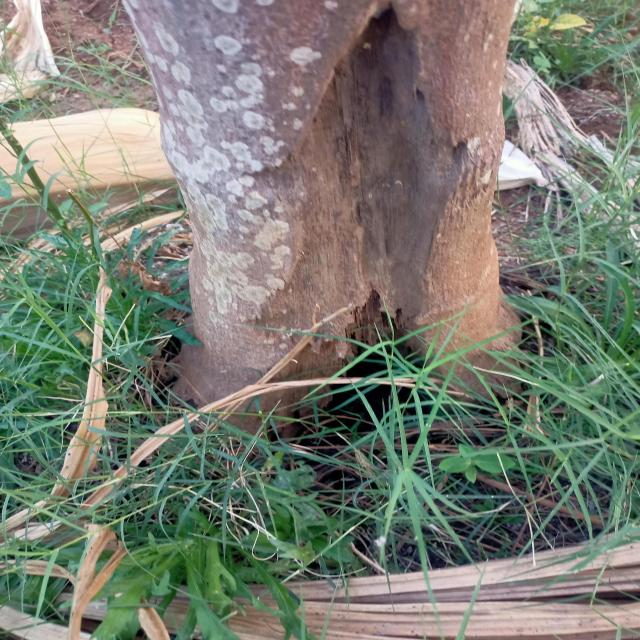Stem_Cracking: (173, 63, 546, 458)
